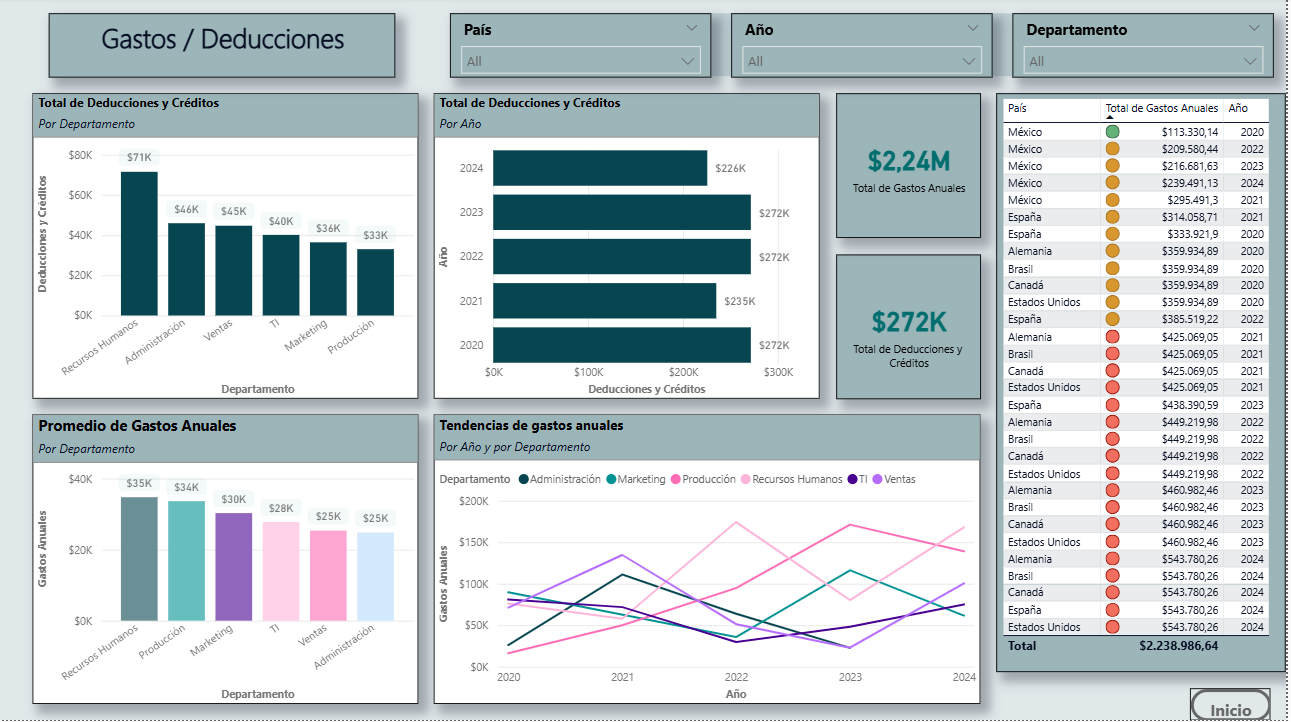

Layout of this report page (visuals, bound fields, positions):
{"tool":"powerbi","page":{"name":"Gastos","canvas":[1280,720],"ordinal":2},"visuals":[{"type":"clusteredColumnChart","title":"Total de Deducciones y Créditos","fields":{"Y":["Sum(Sheet1 (2).Deducciones y Créditos)"],"Category":["Sheet1.Departamento"]},"box":[32,96,384,304],"z":0},{"type":"actionButton","box":[1184,688,80,32],"z":1000},{"type":"columnChart","title":"Promedio de Gastos Anuales","fields":{"Category":["Sheet1.Departamento"],"Y":["Avg(Sheet1.Gastos Anuales)"]},"box":[32,416,384,288],"z":2000},{"type":"textbox","box":[48,16,345,64],"z":3000},{"type":"clusteredBarChart","title":"Total de Deducciones y Créditos","fields":{"Category":["Sheet1.Año"],"Y":["Sum(Sheet1 (2).Deducciones y Créditos)"]},"box":[432,96,384,304],"z":4000},{"type":"slicer","fields":{"Values":["Sheet1.Año"]},"box":[728,16,260,64],"z":5000,"group":"g1"},{"type":"tableEx","fields":{"Values":["Sheet1 (2).País","Sum(Sheet1.Gastos Anuales)","Sheet1.Año"]},"box":[992,96,288,576],"z":5000},{"type":"slicer","fields":{"Values":["Sheet1 (2).País"]},"box":[448,16,260,64],"z":6000,"group":"g1"},{"type":"card","fields":{"Values":["Sum(Sheet1 (2).Deducciones y Créditos)"]},"box":[832,256,144,144],"z":6000},{"type":"slicer","fields":{"Values":["Sheet1.Departamento"]},"box":[1008,16,260,64],"z":7000,"group":"g1"},{"type":"card","fields":{"Values":["Sum(Sheet1.Gastos Anuales)"]},"box":[832,96,144,144],"z":7000},{"type":"lineChart","title":"Tendencias de gastos anuales","fields":{"Category":["Sheet1.Año"],"Y":["Sum(Sheet1.Gastos Anuales)"],"Series":["Sheet1.Departamento"]},"box":[432,416,544,288],"z":8000},{"type":"group","id":"g1","title":"Grupo 1","box":[448,16,816,64],"z":9000}]}

Visuals, with their boxes in screenshot pixels (x1, y1, x2, y2), scaled from the page's 1280x720 canvas onto the 1291x722 screenshot:
"Total de Deducciones y Créditos" clusteredColumnChart: (x1=32, y1=96, x2=420, y2=401)
actionButton: (x1=1194, y1=690, x2=1275, y2=721)
"Promedio de Gastos Anuales" columnChart: (x1=32, y1=417, x2=420, y2=706)
textbox: (x1=48, y1=16, x2=396, y2=80)
"Total de Deducciones y Créditos" clusteredBarChart: (x1=436, y1=96, x2=823, y2=401)
slicer - Sheet1.Año: (x1=734, y1=16, x2=996, y2=80)
tableEx - Sheet1 (2).País x Sum(Sheet1.Gastos Anuales): (x1=1001, y1=96, x2=1290, y2=674)
slicer - Sheet1 (2).País: (x1=452, y1=16, x2=714, y2=80)
card - Sum(Sheet1 (2).Deducciones y Créditos): (x1=839, y1=257, x2=984, y2=401)
slicer - Sheet1.Departamento: (x1=1017, y1=16, x2=1279, y2=80)
card - Sum(Sheet1.Gastos Anuales): (x1=839, y1=96, x2=984, y2=241)
"Tendencias de gastos anuales" lineChart: (x1=436, y1=417, x2=984, y2=706)
"Grupo 1" group: (x1=452, y1=16, x2=1275, y2=80)
